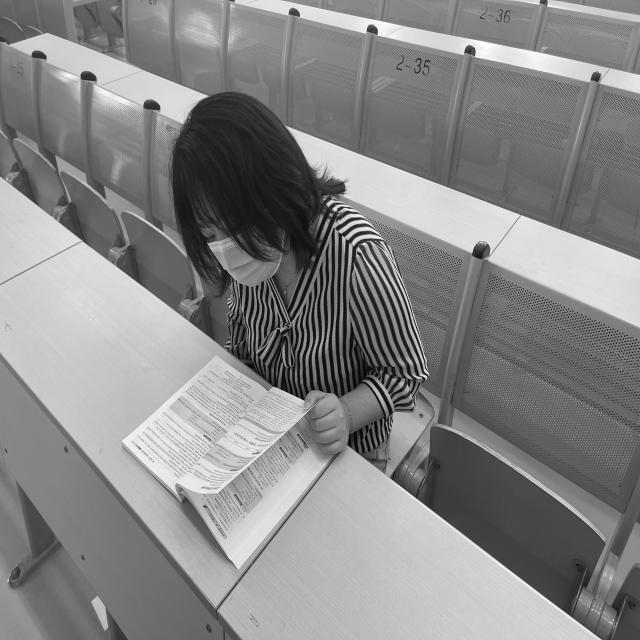study: (143, 93, 432, 468)
